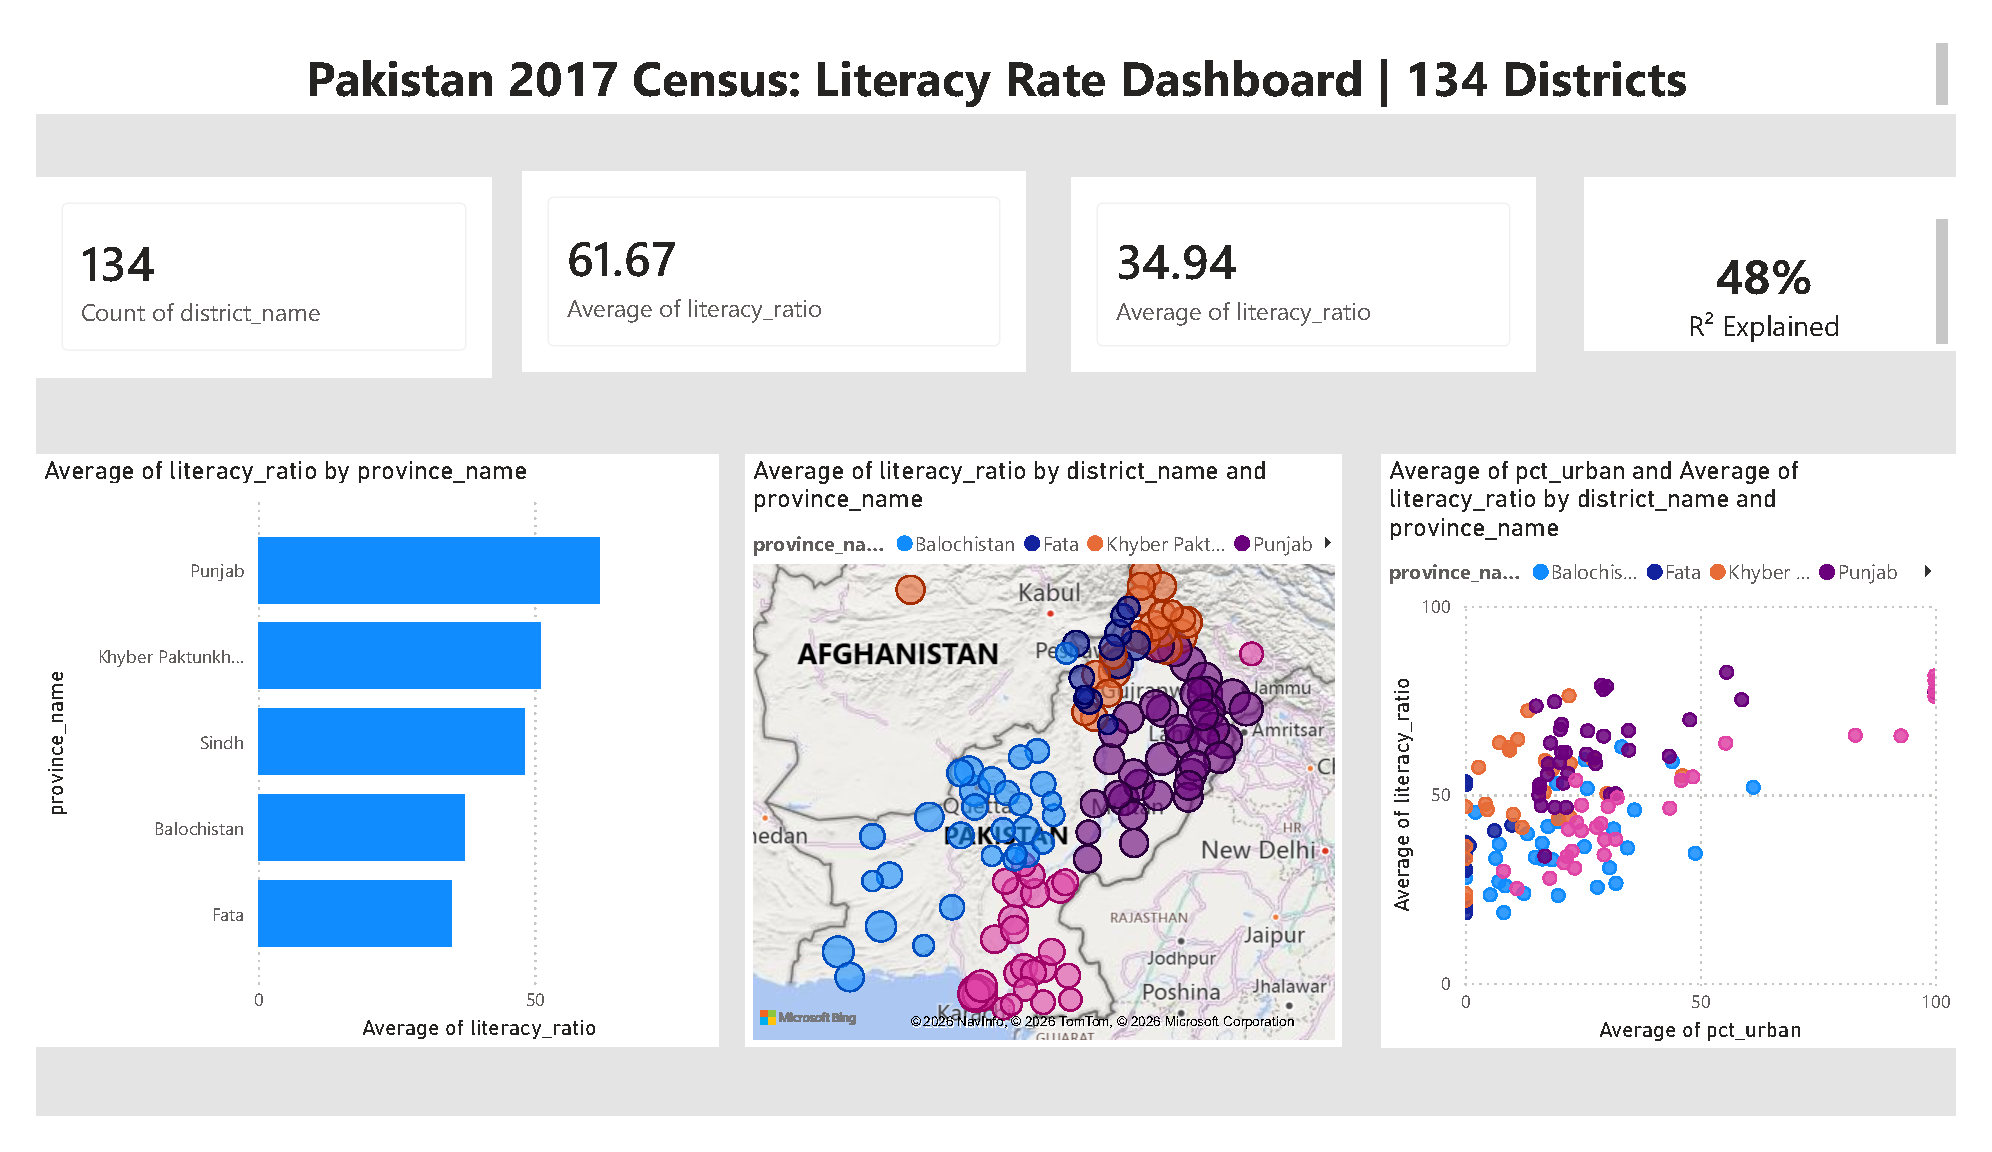

This screenshot's page, from the dashboard's own definition file:
{"tool":"powerbi","page":{"name":"Page 1","canvas":[1280,720],"ordinal":0},"visuals":[{"type":"scatterChart","fields":{"X":["Avg(literacy_dashboard_data.pct_urban)"],"Y":["Avg(literacy_dashboard_data.literacy_ratio)"],"Category":["literacy_dashboard_data.district_name"],"Series":["literacy_dashboard_data.province_name"]},"box":[897.1,278.5,383.8,396.7],"z":1000},{"type":"clusteredBarChart","fields":{"Y":["Avg(literacy_dashboard_data.literacy_ratio)"],"Category":["literacy_dashboard_data.province_name"]},"box":[0,278.5,455,395.1],"z":1500},{"type":"map","fields":{"Size":["Avg(literacy_dashboard_data.literacy_ratio)"],"Series":["literacy_dashboard_data.province_name"],"Category":["literacy_dashboard_data.district_name"]},"box":[472.8,278.5,398.3,395.1],"z":2000},{"type":"textbox","box":[0,0,1280,52],"z":3000},{"type":"cardVisual","fields":{"Data":["Count(literacy_dashboard_data.district_name)"]},"box":[0,94.4,304.4,133.3],"z":4000},{"type":"cardVisual","fields":{"Data":["Avg(literacy_dashboard_data.literacy_ratio)"]},"box":[324,90,336,134],"z":5000},{"type":"cardVisual","fields":{"Data":["Avg(literacy_dashboard_data.literacy_ratio)"]},"box":[690,94,310,130],"z":6000},{"type":"textbox","box":[1032,94,248,116],"z":7000}]}

Visuals, with their boxes in screenshot pixels (x1, y1, x2, y2), scaled from the page's 1280x720 canvas onto the 1992x1152 screenshot:
scatterChart - Avg(literacy_dashboard_data.pct_urban) x Avg(literacy_dashboard_data.literacy_ratio): 1396/446/1991/1080
clusteredBarChart - Avg(literacy_dashboard_data.literacy_ratio) x literacy_dashboard_data.province_name: 0/446/708/1078
map - Avg(literacy_dashboard_data.literacy_ratio) x literacy_dashboard_data.province_name: 736/446/1356/1078
textbox: 0/0/1991/83
cardVisual - Count(literacy_dashboard_data.district_name): 0/151/474/364
cardVisual - Avg(literacy_dashboard_data.literacy_ratio): 504/144/1027/358
cardVisual - Avg(literacy_dashboard_data.literacy_ratio): 1074/150/1556/358
textbox: 1606/150/1991/336
